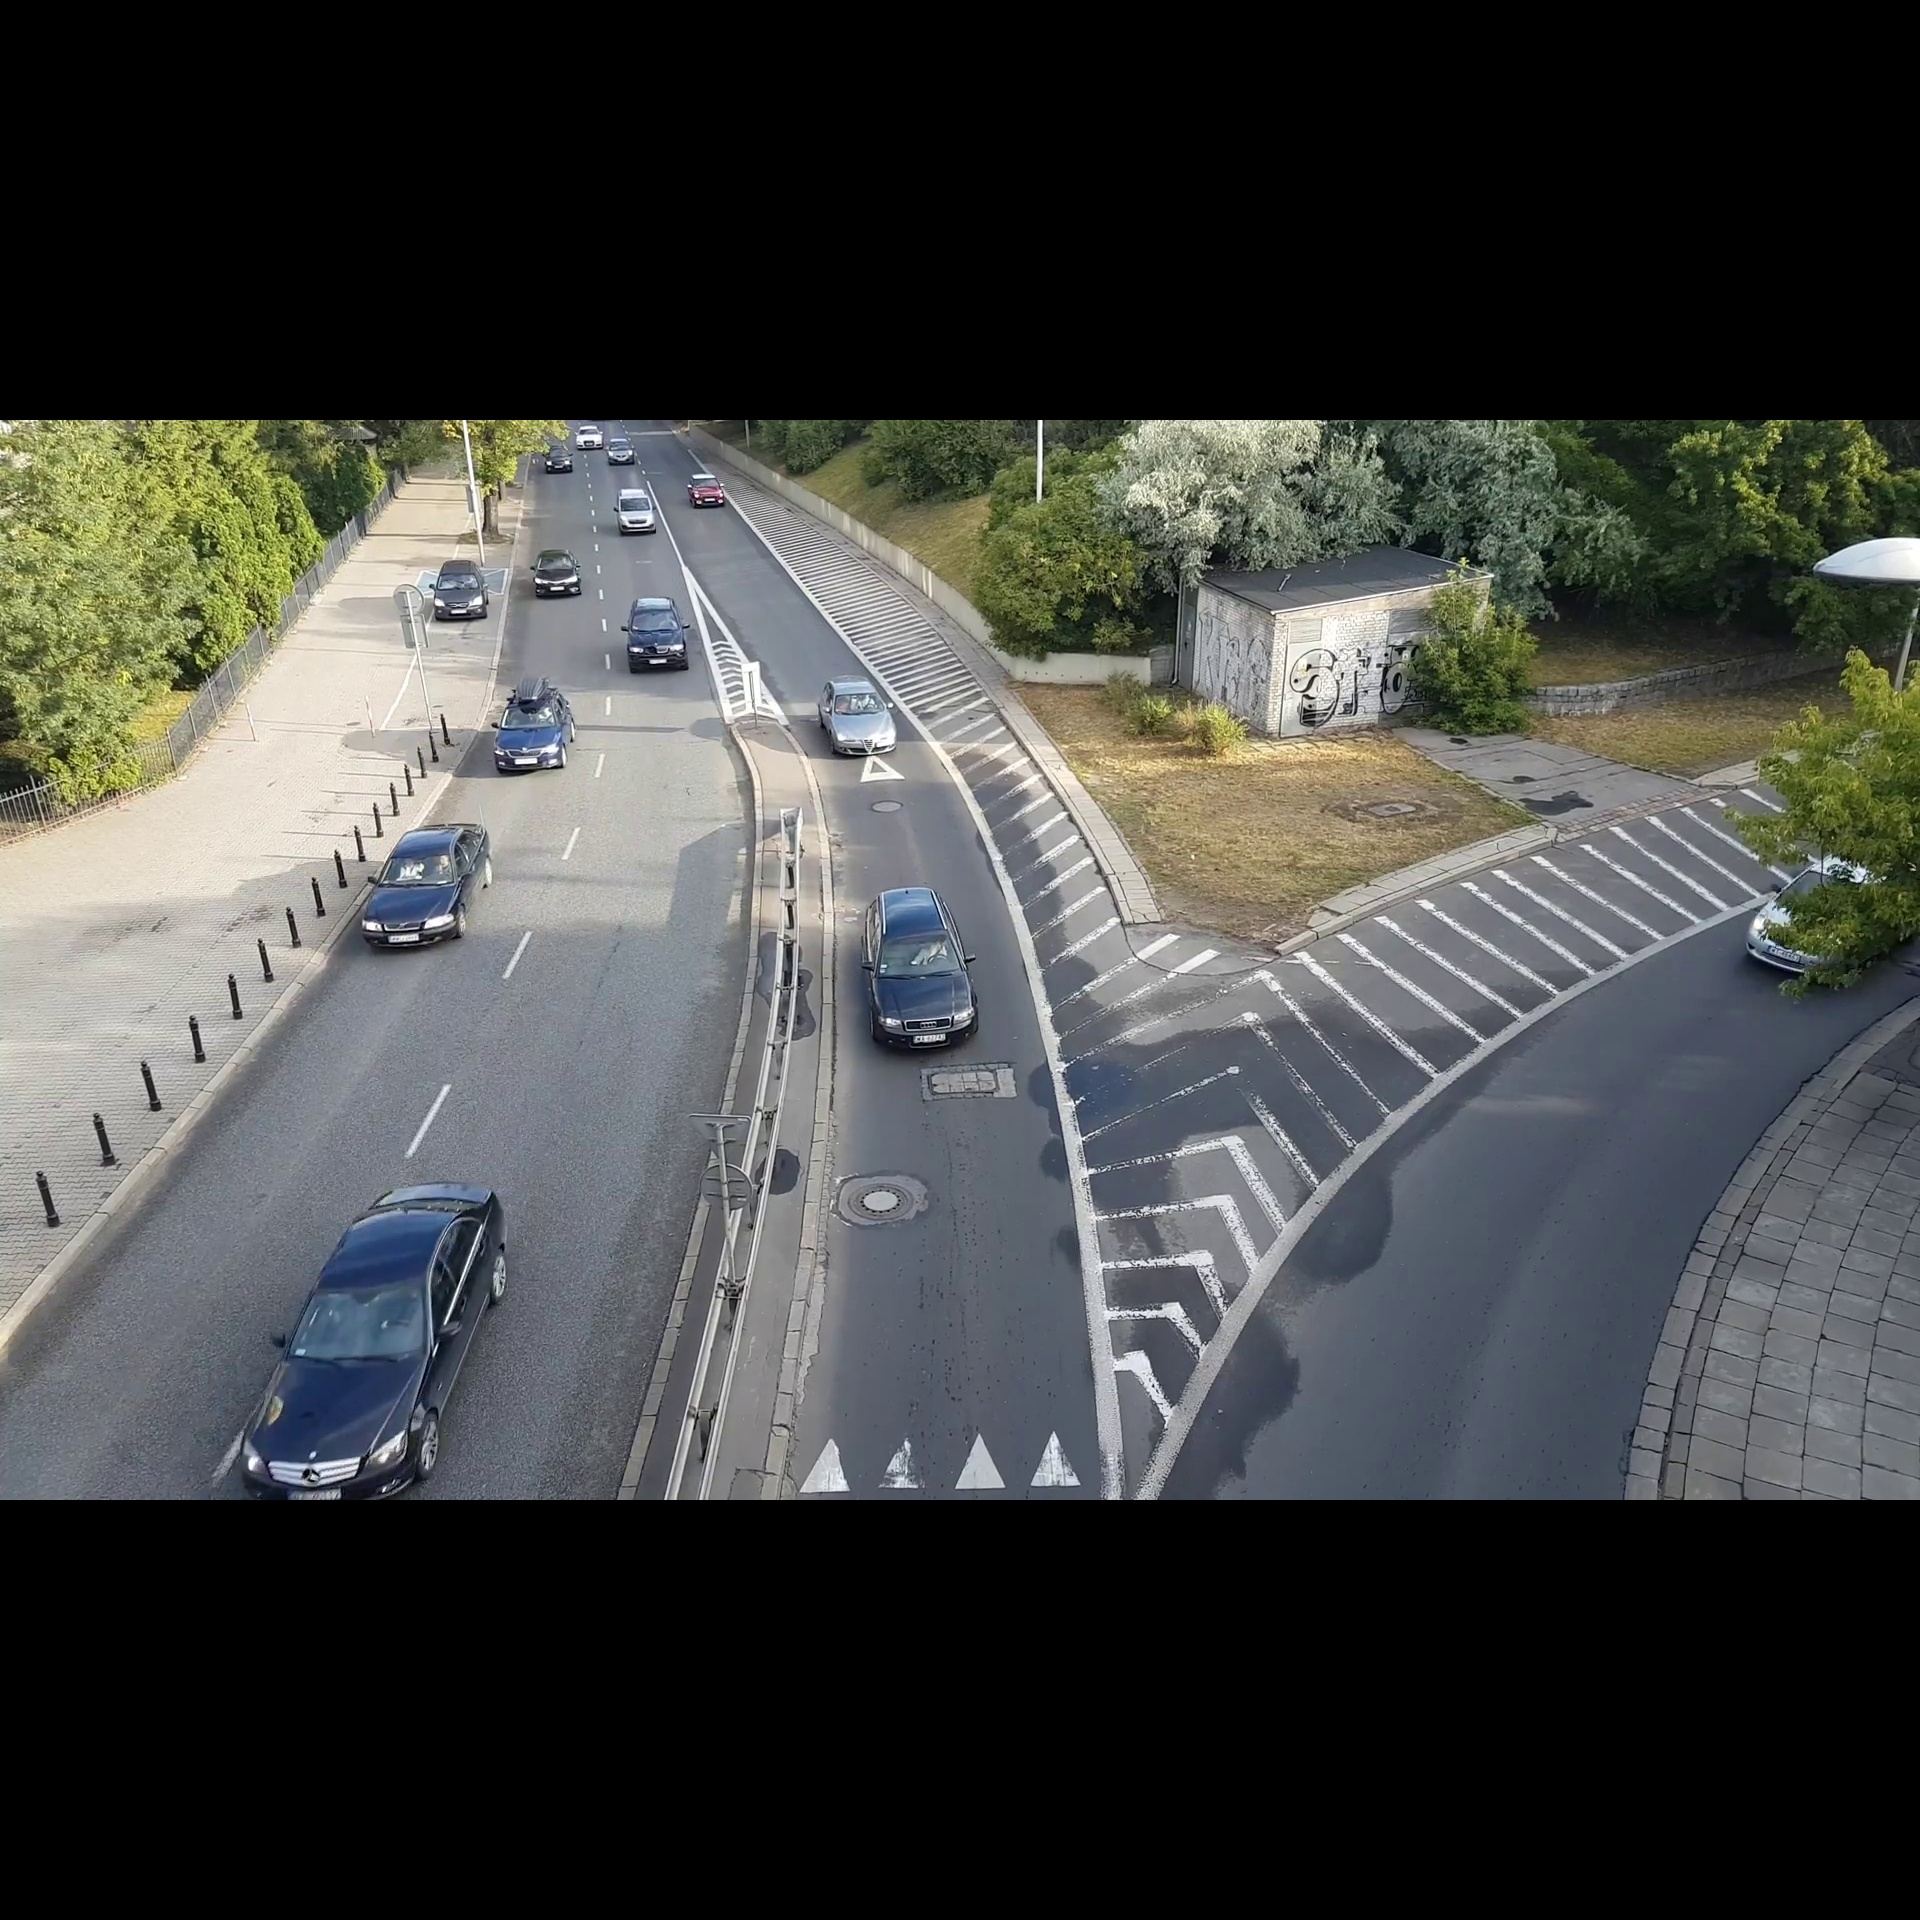vehicle: (236, 1167, 517, 1496), (853, 879, 985, 1064), (1746, 846, 1904, 986), (353, 818, 501, 960), (485, 673, 580, 777), (812, 673, 898, 767), (622, 591, 696, 682), (431, 556, 496, 626), (531, 547, 584, 605), (612, 485, 658, 536), (684, 471, 728, 510), (542, 443, 575, 476), (605, 438, 635, 468), (575, 424, 603, 452)
